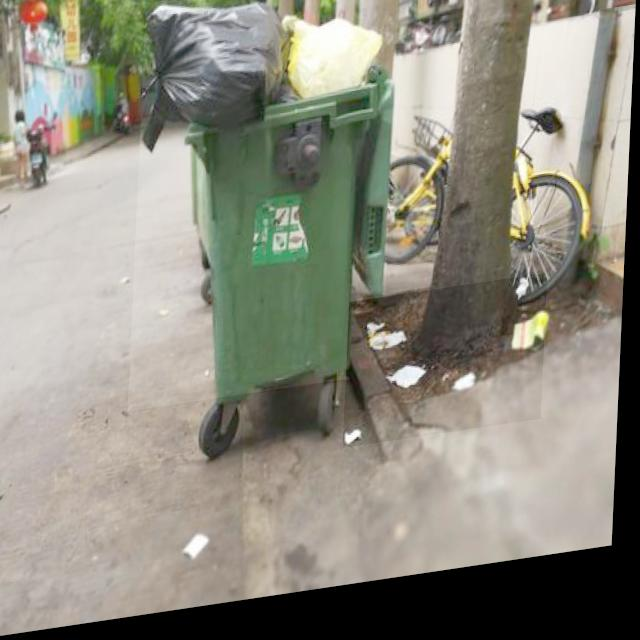garbage: (347, 290, 551, 459)
overflow: (132, 0, 400, 416)
